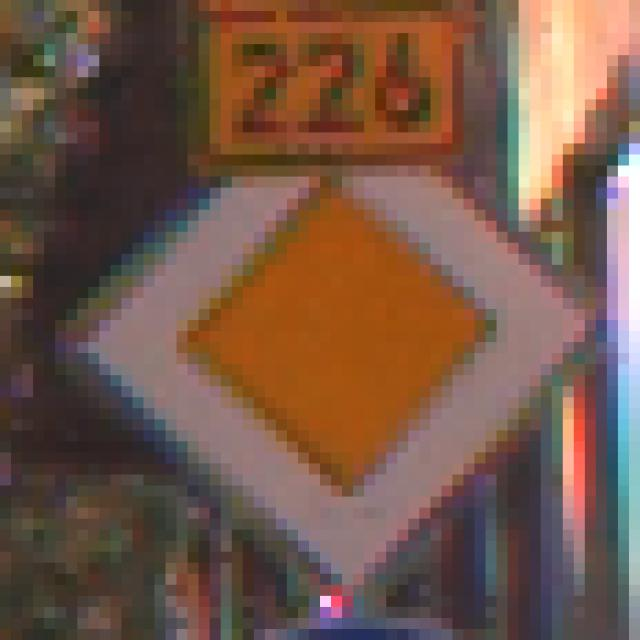Main Road: (67, 56, 586, 586)
